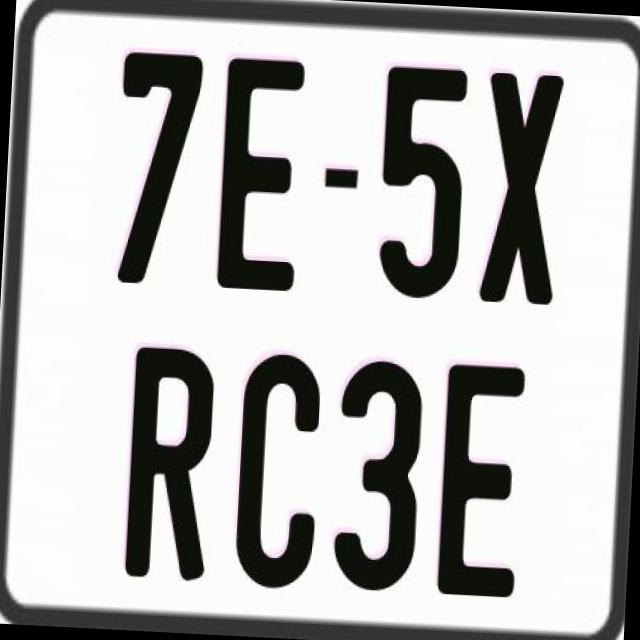3: (330, 354, 426, 594)
5: (376, 64, 474, 304)
7: (111, 47, 208, 282)
C: (234, 349, 329, 596)
E: (216, 58, 308, 292), (432, 362, 522, 599)
R: (122, 348, 215, 582)
X: (478, 68, 570, 307)
